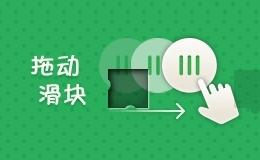target: (86, 49, 128, 89)
